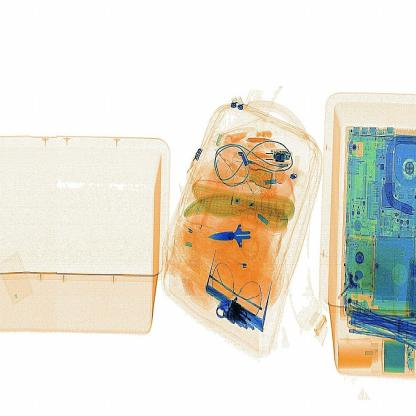gun: (208, 205, 272, 266)
